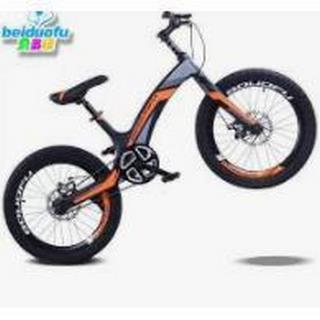Bike: (0, 7, 318, 266)
